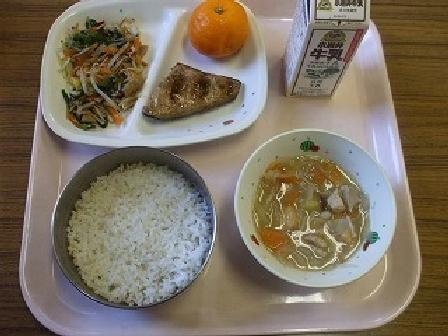Citrus: (181, 0, 258, 57)
Fish: (145, 53, 250, 126)
Milk: (275, 0, 378, 101)
Rice: (42, 151, 222, 309)
Salad: (35, 13, 152, 122)
vegetable soup: (238, 136, 400, 282)
